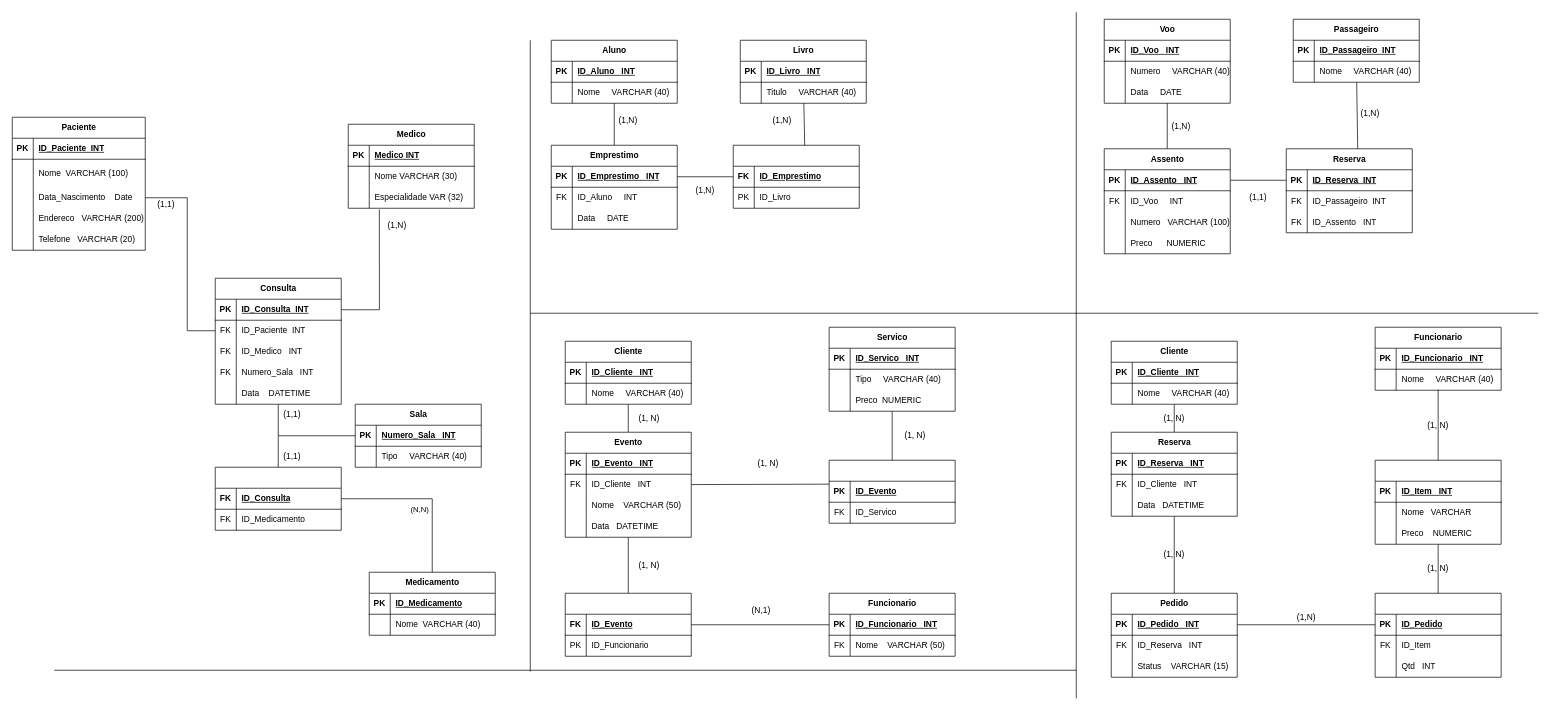
The diagram is 1551 pixels wide and 711 high, and some of its shapes have lost their labels. Here are the shapes that lost their labels. From the top down, the box of each, then its label:
(733, 145, 859, 208): Item_Emprestimo
(215, 467, 341, 530): Prescricao
(828, 460, 955, 523): Evento_Servico
(1374, 460, 1501, 544): Item_Cardapio
(565, 593, 691, 656): Evento_Funcionario
(1374, 593, 1501, 677): Item_Pedido
